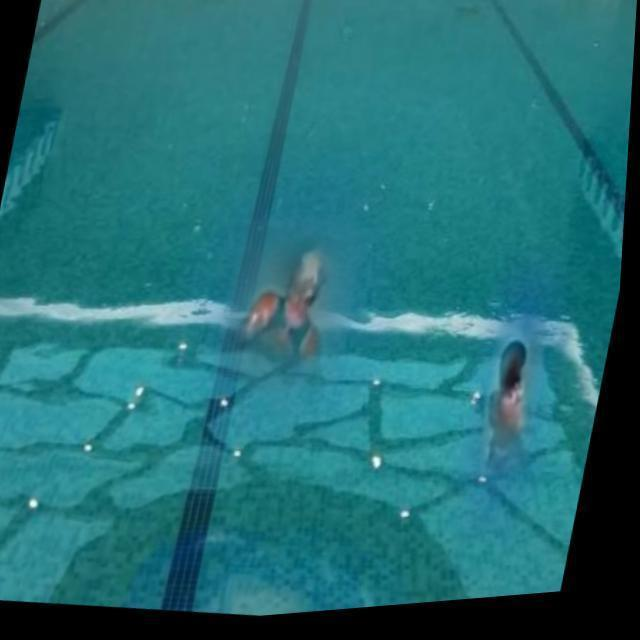swimming: (237, 235, 365, 387), (468, 309, 547, 472)
